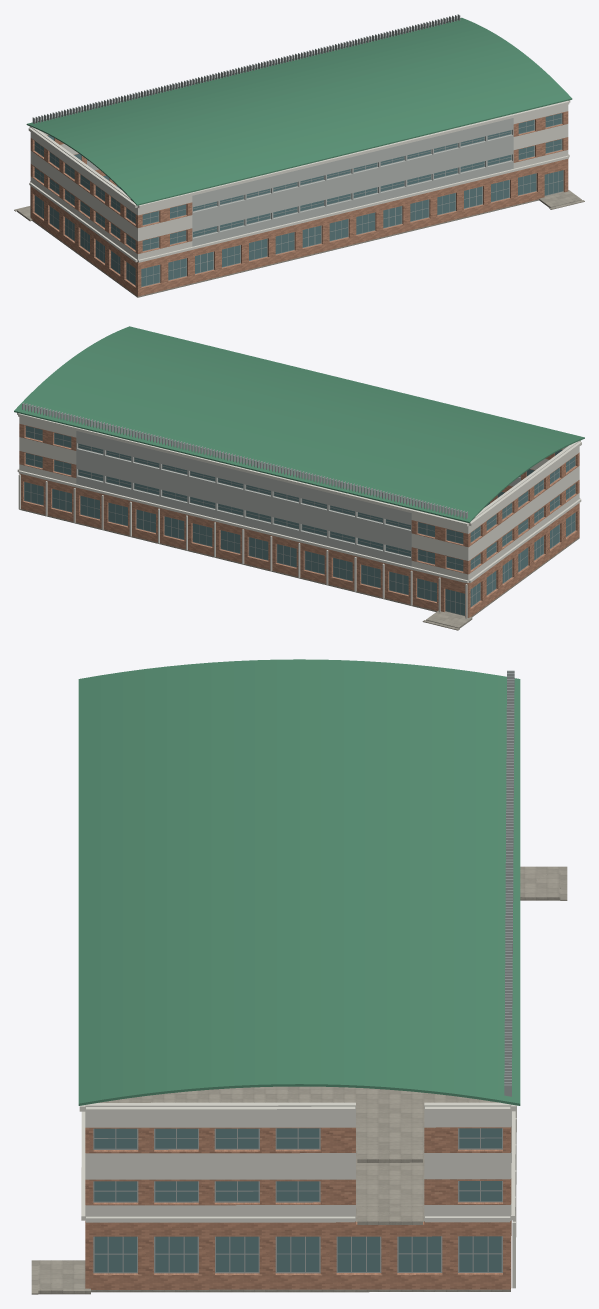
3 views of the same model, one above another, from view 1: azimuth 30°, elevation 25°; view 2: azimuth 150°, elevation 25°; view 3: azimuth 270°, elevation 25° (orthographic). The views are drawn at different scales.
Parts seen in each view (by area): view 1: annex__roof, annex__lightbrick, annex__panel, annex__glass, annex__white, annex__frame, annex__metal, annex__stone, annex__threshold-laboratory-1; view 2: annex__roof, annex__lightbrick, annex__panel, annex__glass, annex__white, annex__frame, annex__metal, annex__stone, annex__threshold-laboratory-3; view 3: annex__roof, annex__lightbrick, annex__white, annex__glass, annex__stone, annex__frame, annex__metal, annex__threshold-laboratory-1, annex__threshold-laboratory-3.
Part boxes in pixels (x1,y1,x2,y2): annex__roof: (26,17,572,205); annex__lightbrick: (30,111,568,296); annex__panel: (87,118,513,246); annex__glass: (34,113,563,286); annex__white: (28,100,570,262); annex__frame: (34,113,563,287); annex__metal: (32,14,460,123); annex__stone: (32,199,538,297); annex__threshold-laboratory-1: (539,190,581,207); annex__roof: (14,326,584,523); annex__lightbrick: (19,423,579,617); annex__panel: (76,431,520,566); annex__glass: (24,426,575,615); annex__white: (17,413,581,618); annex__frame: (24,426,575,615); annex__metal: (22,402,467,518); annex__stone: (19,509,579,617); annex__threshold-laboratory-3: (426,610,472,628); annex__roof: (78,659,520,1105); annex__lightbrick: (85,1126,511,1289); annex__white: (79,1102,516,1288); annex__glass: (94,1128,501,1272); annex__stone: (91,1086,510,1292); annex__frame: (93,1128,502,1273); annex__metal: (504,670,514,1096); annex__threshold-laboratory-1: (38,1260,90,1294); annex__threshold-laboratory-3: (520,866,560,900).
Bounding box in the file's own units: 53.71 × 12.37 × 28.51.
Materials: 8 (2 with a texture image).
